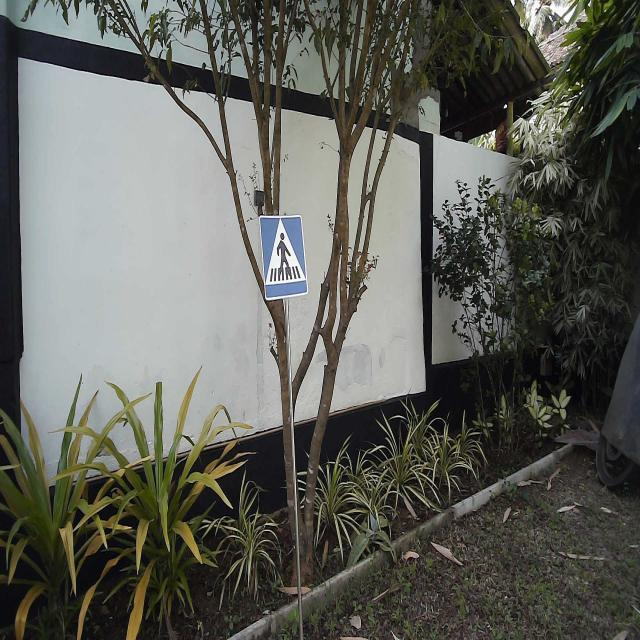crosswalk_sign: (258, 211, 309, 303)
